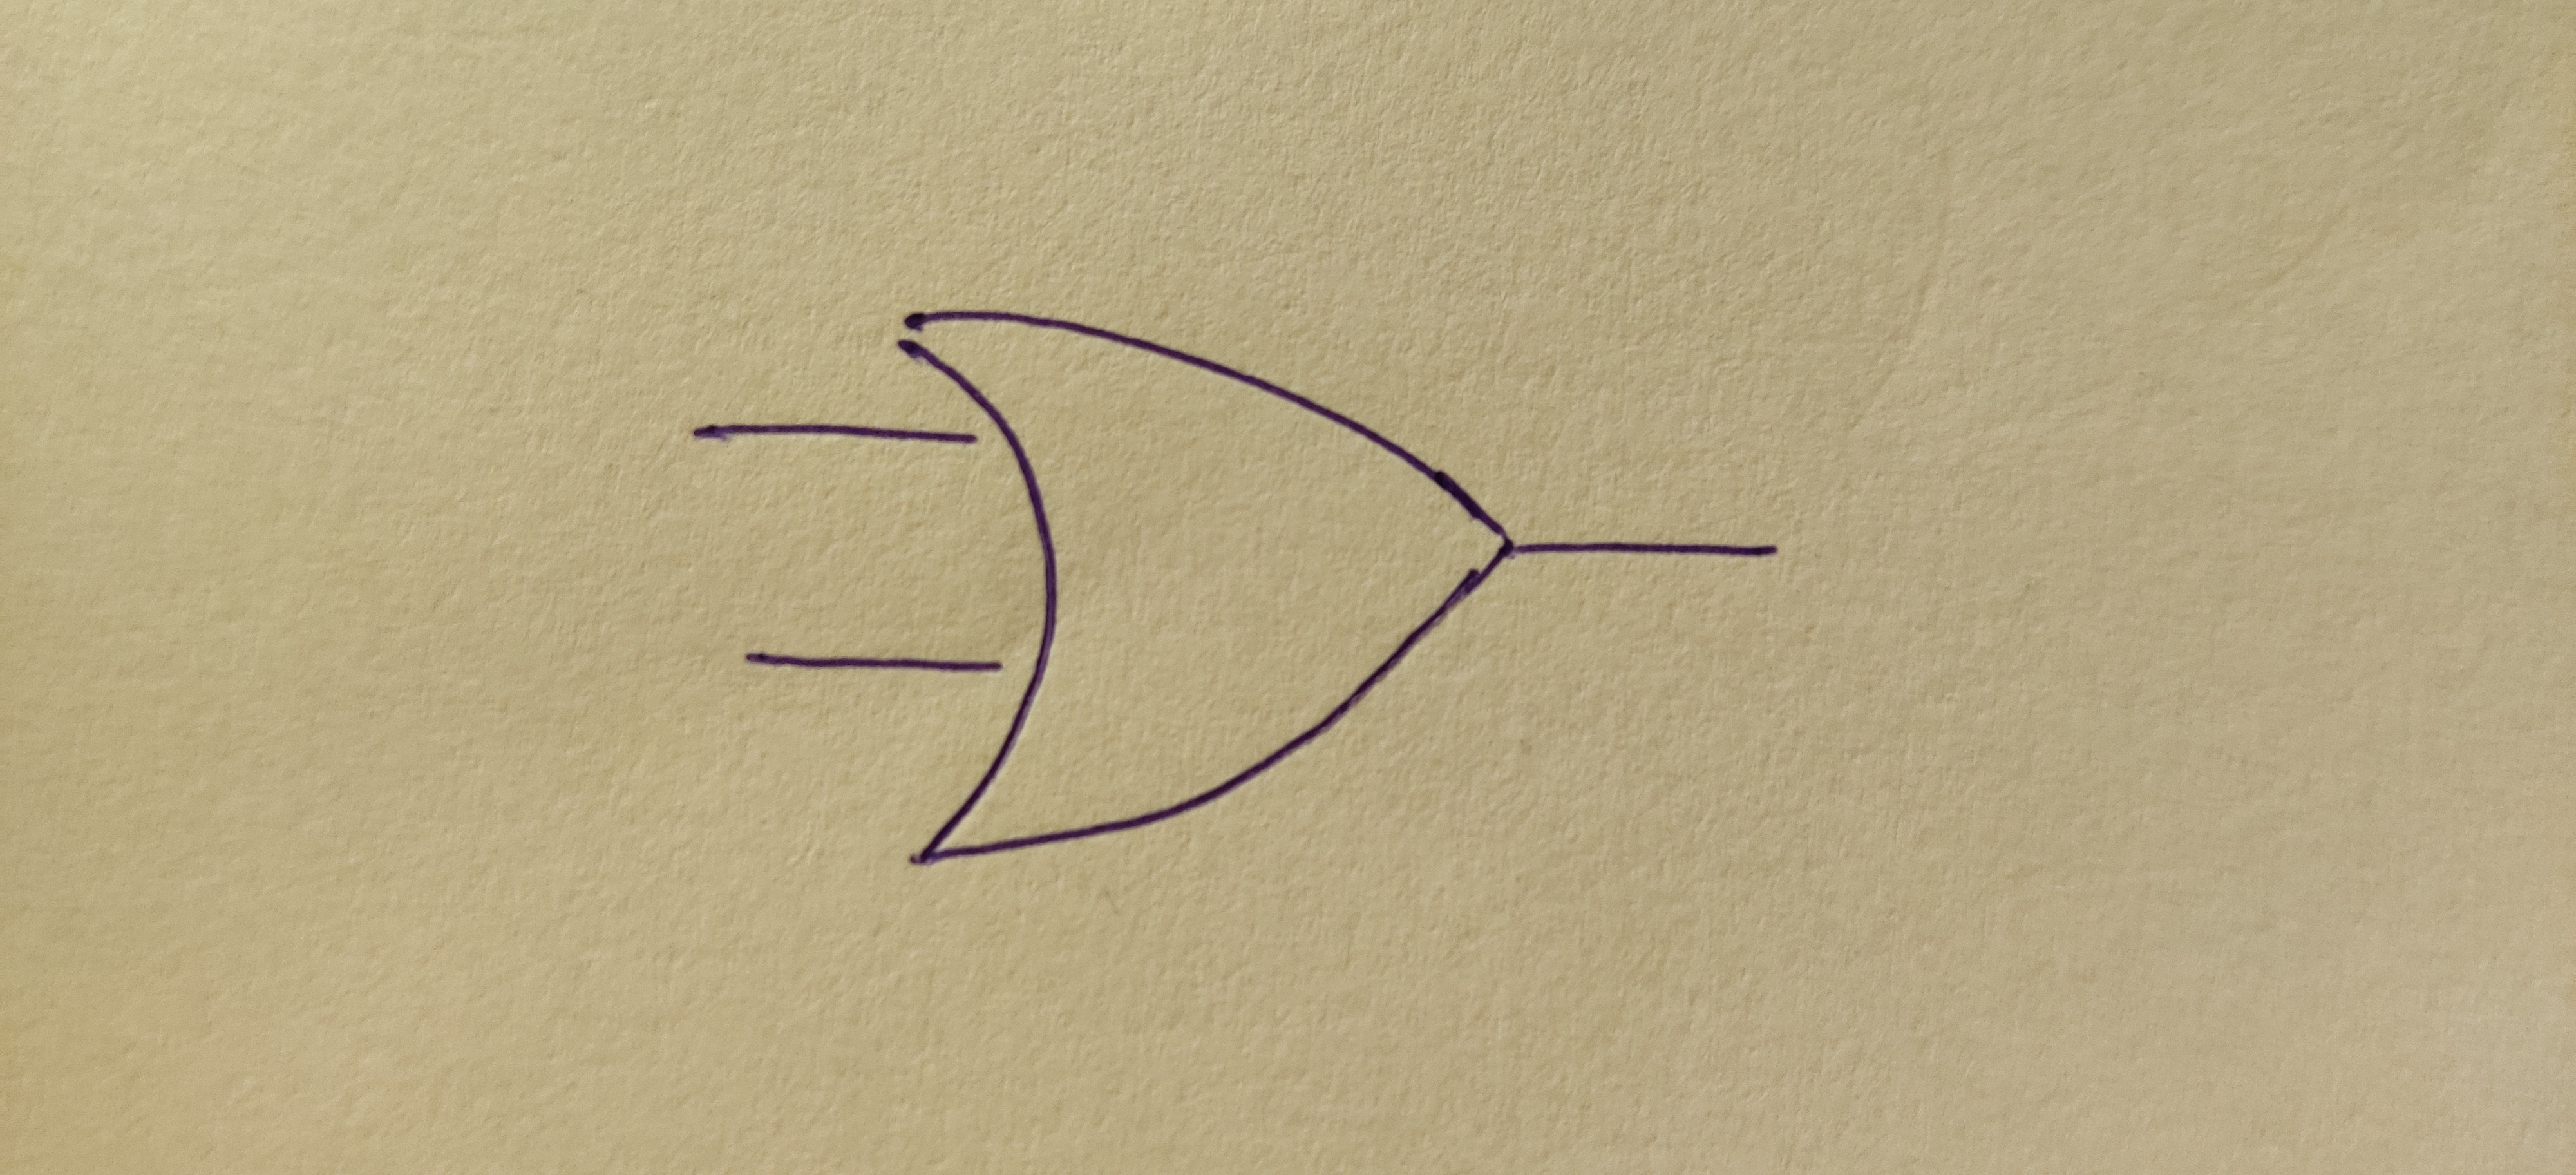or: (904, 309, 1515, 866)
